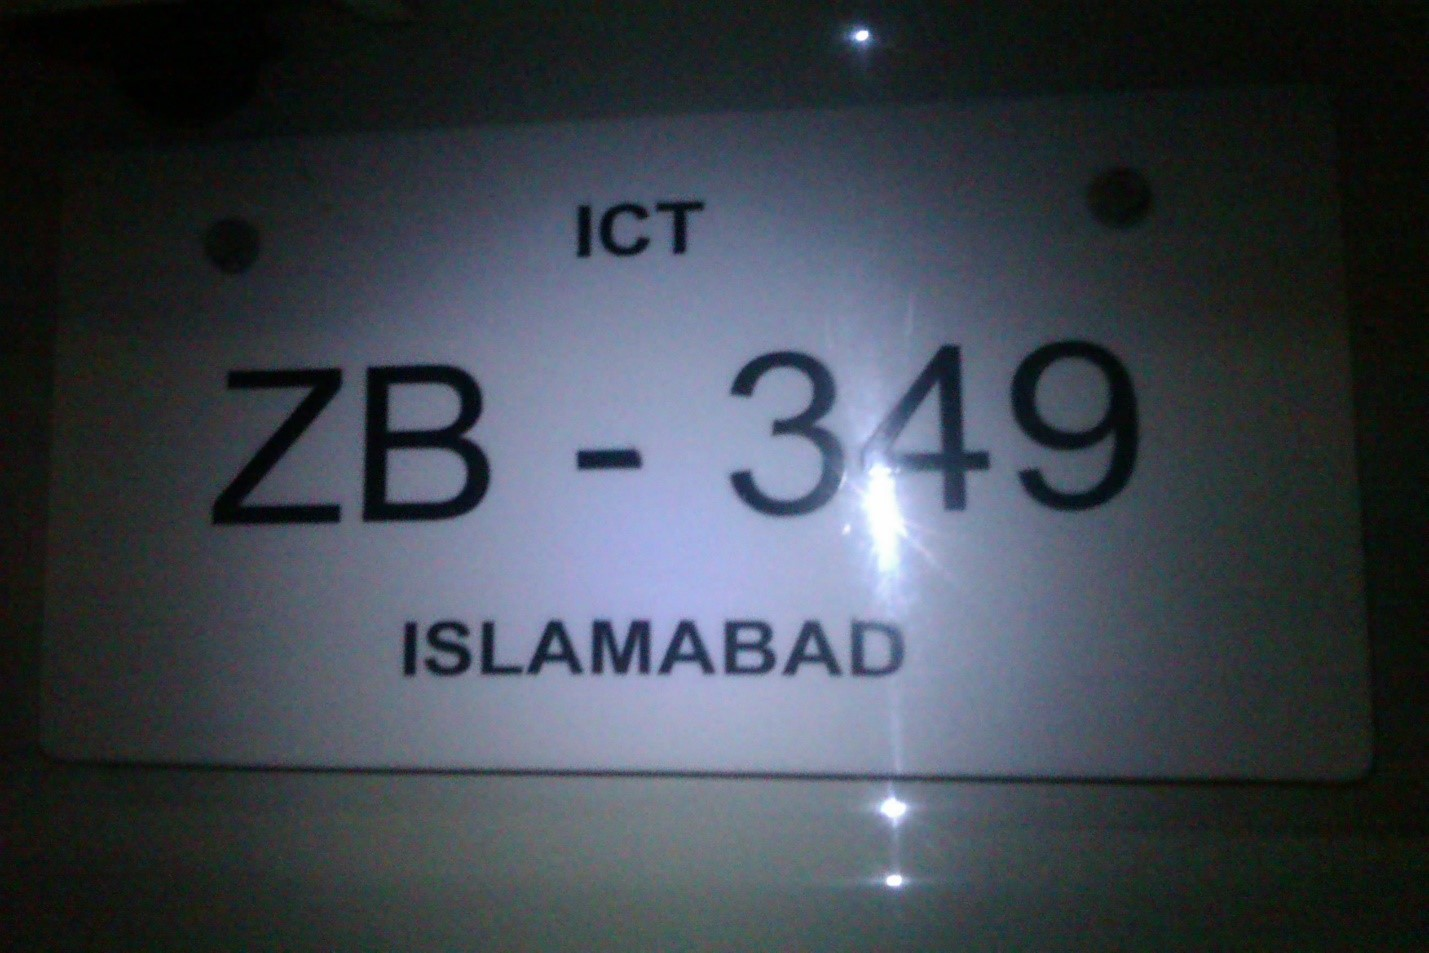3: (723, 338, 849, 524)
4: (852, 332, 996, 522)
9: (1007, 326, 1146, 525)
A: (778, 612, 846, 683), (523, 610, 585, 684), (656, 613, 716, 683)
B: (354, 353, 493, 531), (719, 613, 784, 679)
C: (596, 193, 655, 261)
D: (849, 610, 909, 683)
I: (564, 199, 601, 266), (390, 612, 423, 680)
L: (474, 609, 527, 682)
M: (587, 613, 654, 680)
S: (420, 615, 477, 682)
T: (655, 186, 710, 263)
Z: (204, 358, 352, 534)
